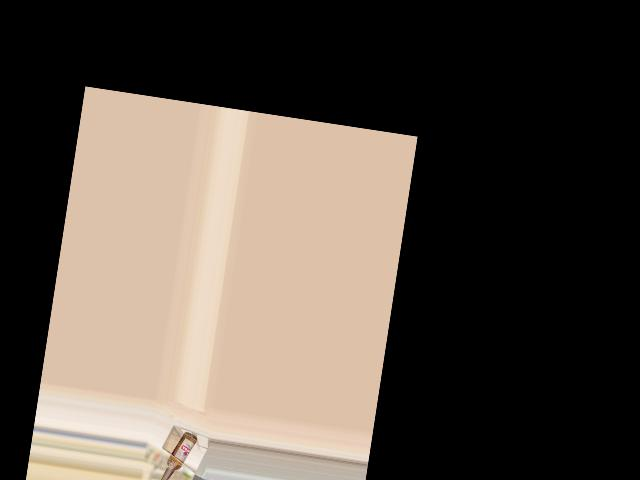beer: (157, 428, 198, 480)
